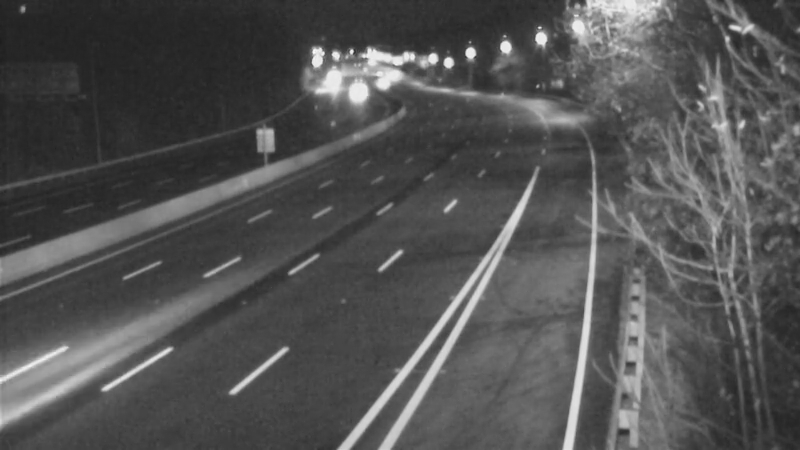vehicle: (357, 59, 407, 109), (332, 67, 382, 117), (307, 53, 357, 103)
